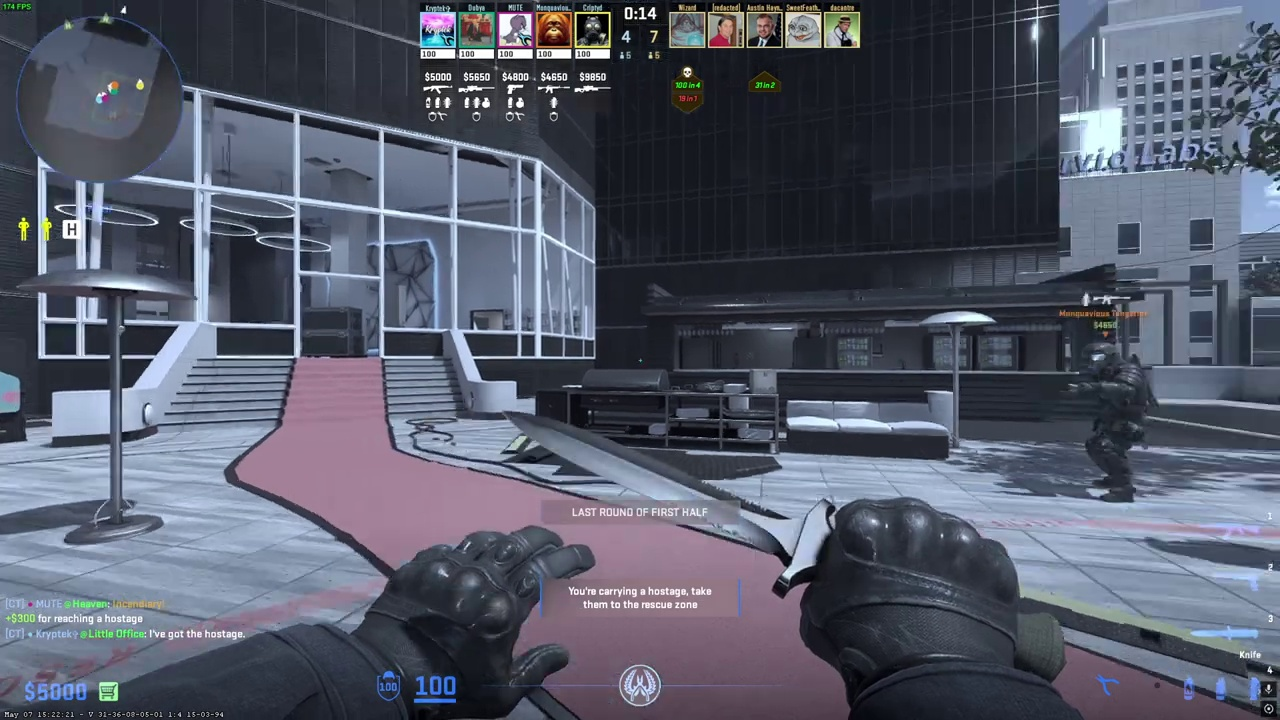CT: (1077, 342, 1151, 502)
